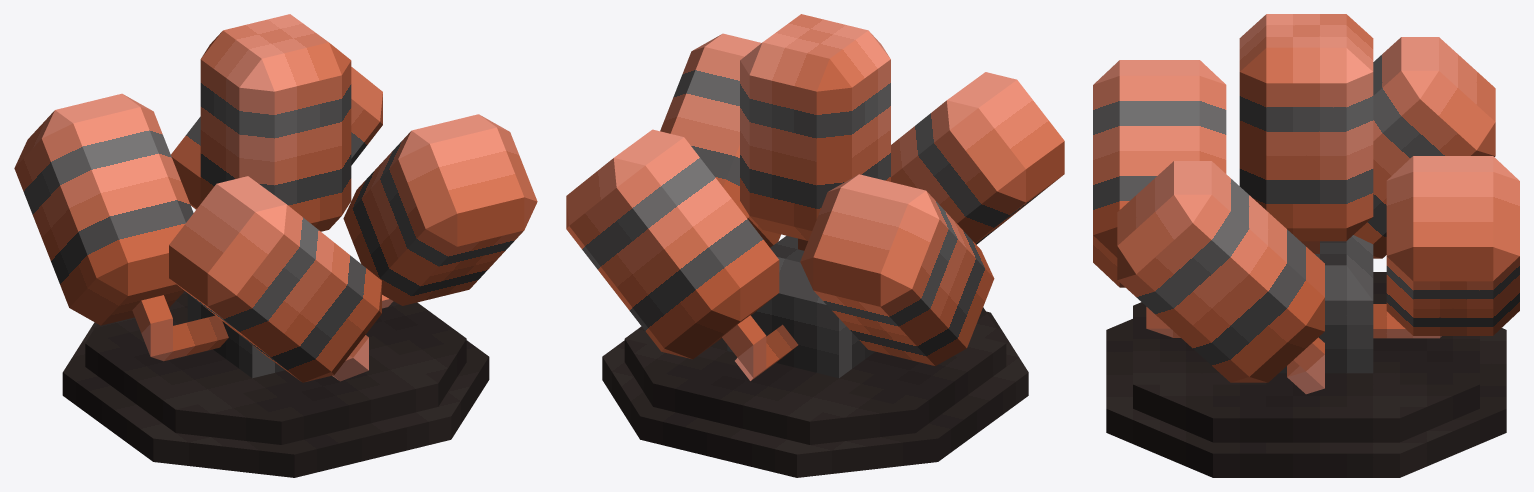
The model's file is admixer.obj.
The picture shows the model from 3 angles, left to right: view 1: azimuth 30°, elevation 25°; view 2: azimuth 150°, elevation 25°; view 3: azimuth 270°, elevation 25°; orthographic projection. The views are drawn at different scales.
Parts seen in each view (by area): view 1: Cube.005_Cube.014; view 2: Cube.005_Cube.014; view 3: Cube.005_Cube.014.
Boxes of the visible parts, x1,y1,x2,y2 form: Cube.005_Cube.014: (14, 14, 537, 477); Cube.005_Cube.014: (566, 14, 1064, 477); Cube.005_Cube.014: (1093, 14, 1519, 477).
Size of the model in its own units: 1 by 0.9375 by 1.
